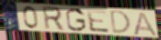0: (22, 6, 40, 30)
A: (132, 11, 159, 37)
D: (109, 9, 132, 34)
E: (85, 9, 112, 34)
G: (65, 7, 88, 33)
R: (41, 6, 66, 32)
